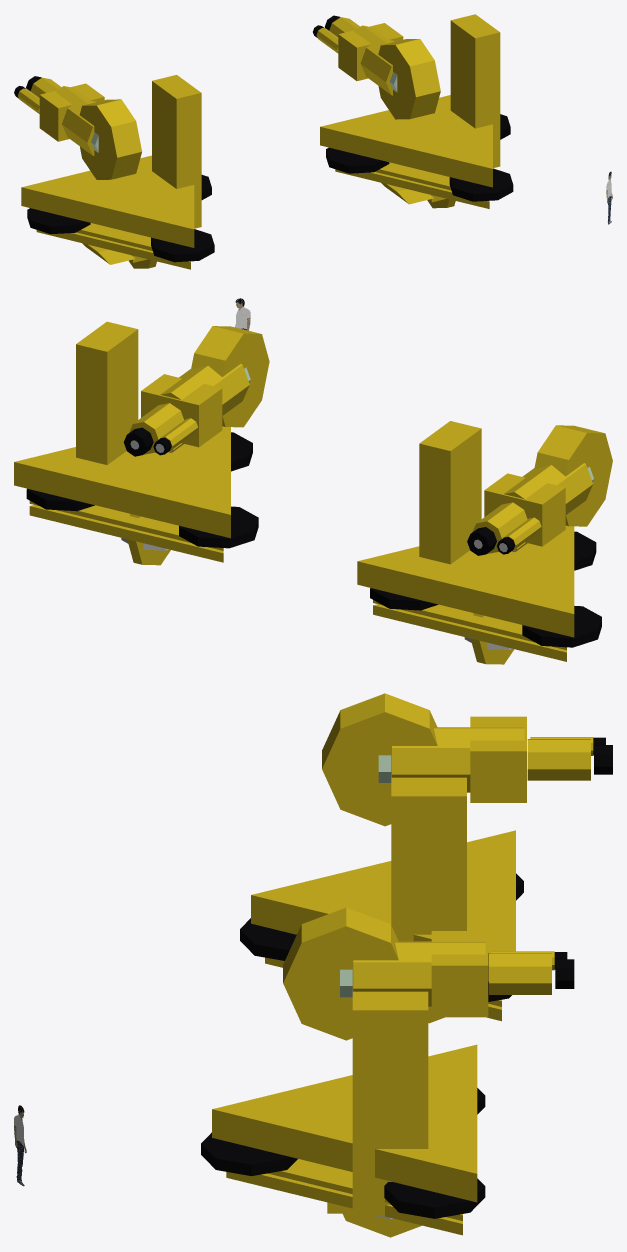
The model's file is vtheodolite4gmag.dae.
3 renders of one model, top to bottom at view 1: azimuth 30°, elevation 25°; view 2: azimuth 150°, elevation 25°; view 3: azimuth 270°, elevation 25°, orthographic. The views are drawn at different scales.
Parts seen in each view (by area): view 1: 土台_ (×6), 塔_ (×4), 塔_の円 (×2), 主鏡1d (×2), 主鏡1c (×2), 土台つま_ (×2), 土台つま__1 (×2), 主鏡1e (×2); view 2: 土台_ (×6), 塔_ (×2), 塔_の円 (×2), 主鏡1d (×2), 主鏡1c (×2), 土台つま__1 (×2), 主鏡1e (×2), 土台つま__2 (×2), 窓_a (×2), 土台つま_ (×2), 主鏡1h (×2), 主鏡1f (×2); view 3: 土台_ (×4), 塔_ (×2), 塔_の円 (×2), 主鏡1d (×2), 主鏡1c (×2), 主鏡1e (×2), 土台つま_ (×2), 土台つま__2, 窓_a.
Boxes of the visible parts, x1,y1,x2,y2 form: 土台_ (×6): [21, 95, 492, 269]; 塔_ (×4): [82, 14, 500, 264]; 塔_の円 (×2): [79, 39, 440, 179]; 主鏡1d (×2): [39, 23, 403, 141]; 主鏡1c (×2): [55, 25, 394, 155]; 土台つま_ (×2): [151, 168, 513, 262]; 土台つま__1 (×2): [27, 147, 389, 234]; 主鏡1e (×2): [30, 17, 360, 97]; 土台_ (×6): [14, 426, 574, 661]; 塔_ (×2): [76, 321, 481, 564]; 塔_の円 (×2): [191, 326, 612, 526]; 主鏡1d (×2): [141, 374, 565, 546]; 主鏡1c (×2): [160, 364, 592, 514]; 土台つま__1 (×2): [179, 506, 601, 647]; 主鏡1e (×2): [129, 403, 527, 553]; 土台つま__2 (×2): [26, 488, 438, 610]; 窓_a (×2): [127, 514, 514, 664]; 土台つま_ (×2): [231, 432, 596, 570]; 主鏡1h (×2): [123, 427, 496, 555]; 主鏡1f (×2): [160, 418, 541, 550]; 土台_ (×4): [212, 830, 515, 1235]; 塔_ (×2): [352, 777, 466, 1216]; 塔_の円 (×2): [283, 693, 437, 1040]; 主鏡1d (×2): [431, 716, 526, 1017]; 主鏡1c (×2): [353, 727, 524, 1006]; 主鏡1e (×2): [489, 739, 590, 994]; 土台つま_ (×2): [201, 918, 297, 1176]; 土台つま__2: [384, 1178, 485, 1218]; 窓_a: [343, 1213, 421, 1237].
Size of the model in its own units: 651 by 474 by 250.
